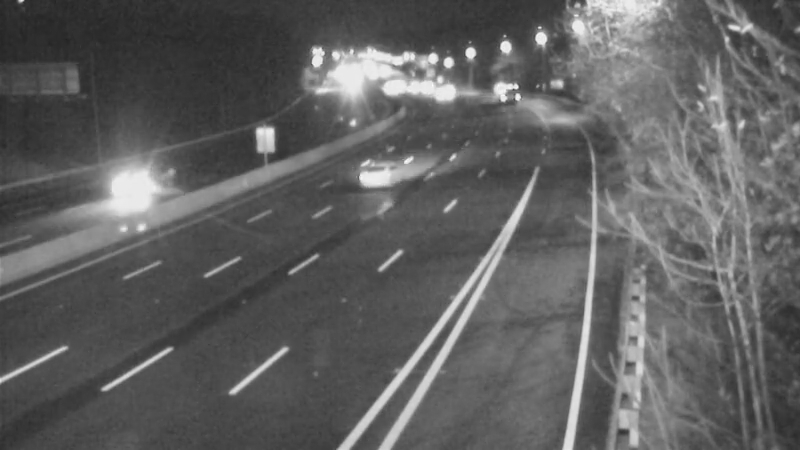vehicle: (329, 138, 409, 218), (90, 145, 170, 225), (484, 62, 534, 112)
